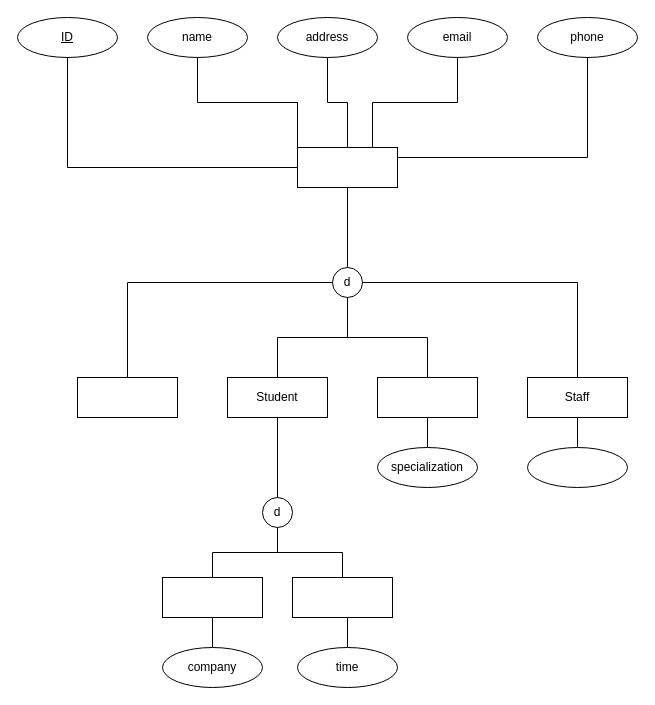
This 655x705 diagram has some shape labels left out. Here are the shapes that lost their labels. From the top down, the centre of each, then its label:
At point 347,167: "People".
At point 127,397: "Employee".
At point 427,397: "Faculty".
At point 577,467: "role".
At point 212,597: "Undergrad".
At point 342,597: "Grad".
